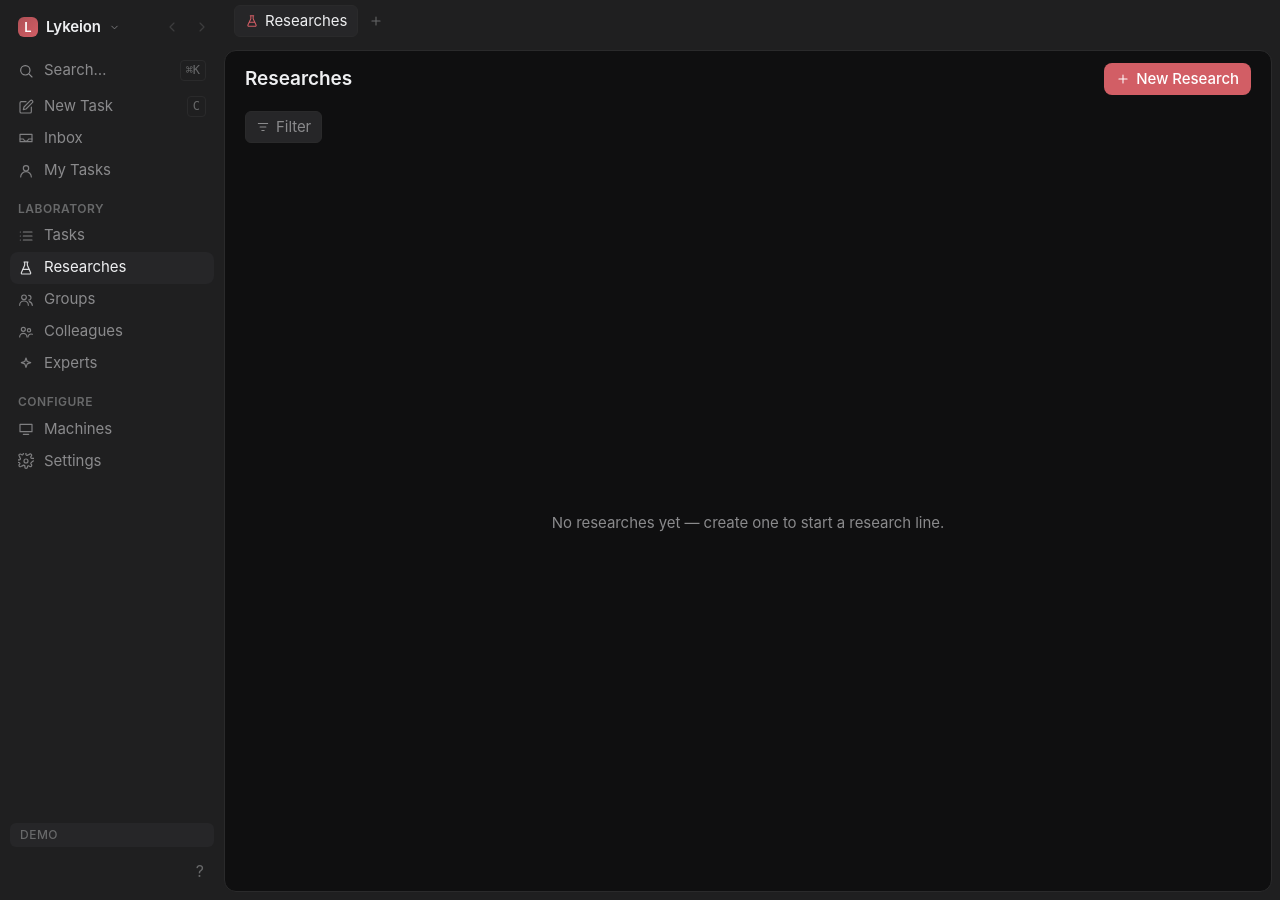
renders the usage dashboard with zeroed stats and both panels on a fresh core
Click the link "Settings".
click(60, 460)  # box [18,451,101,470]
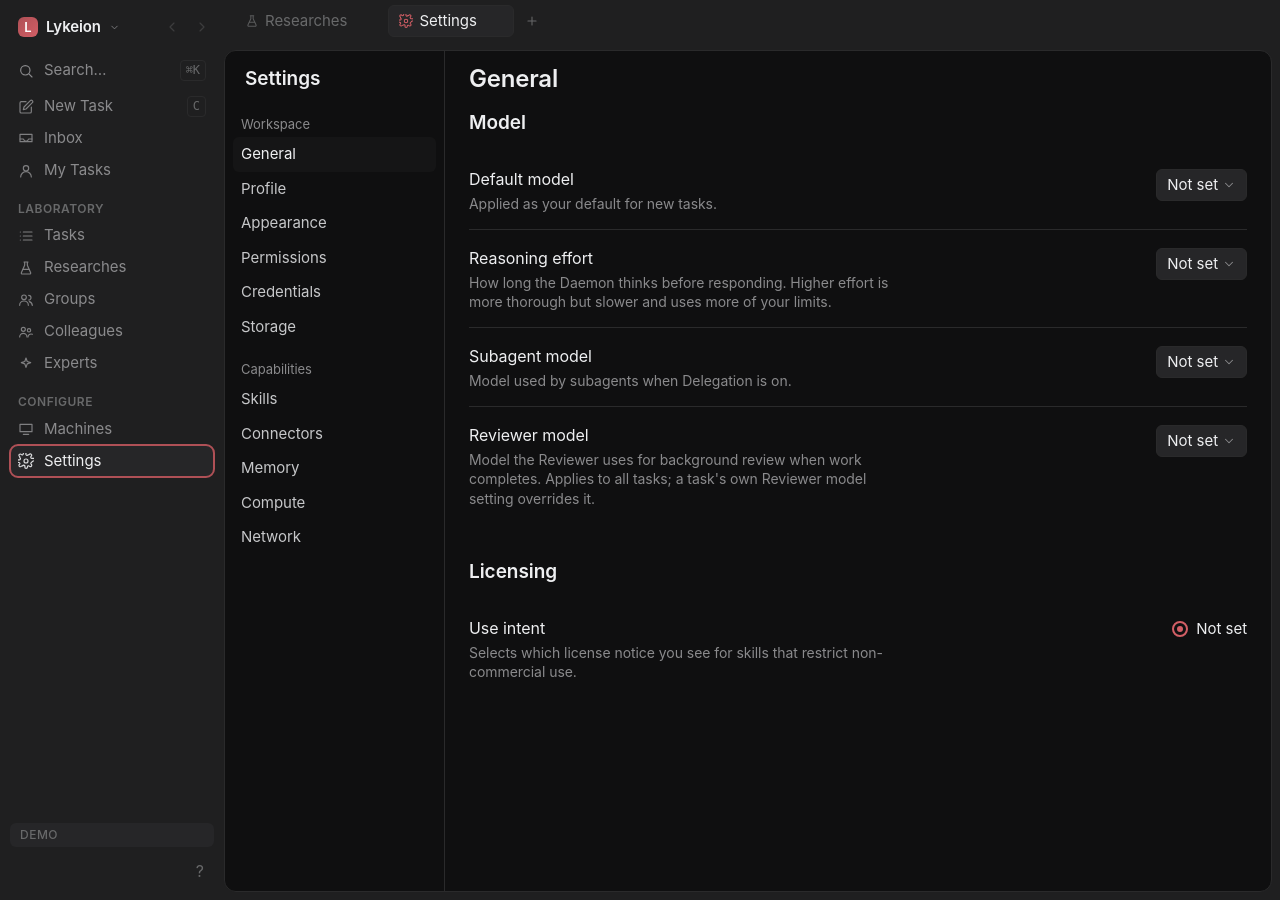
Click the button "Profile".
click(334, 189)  # box [233,172,436,206]
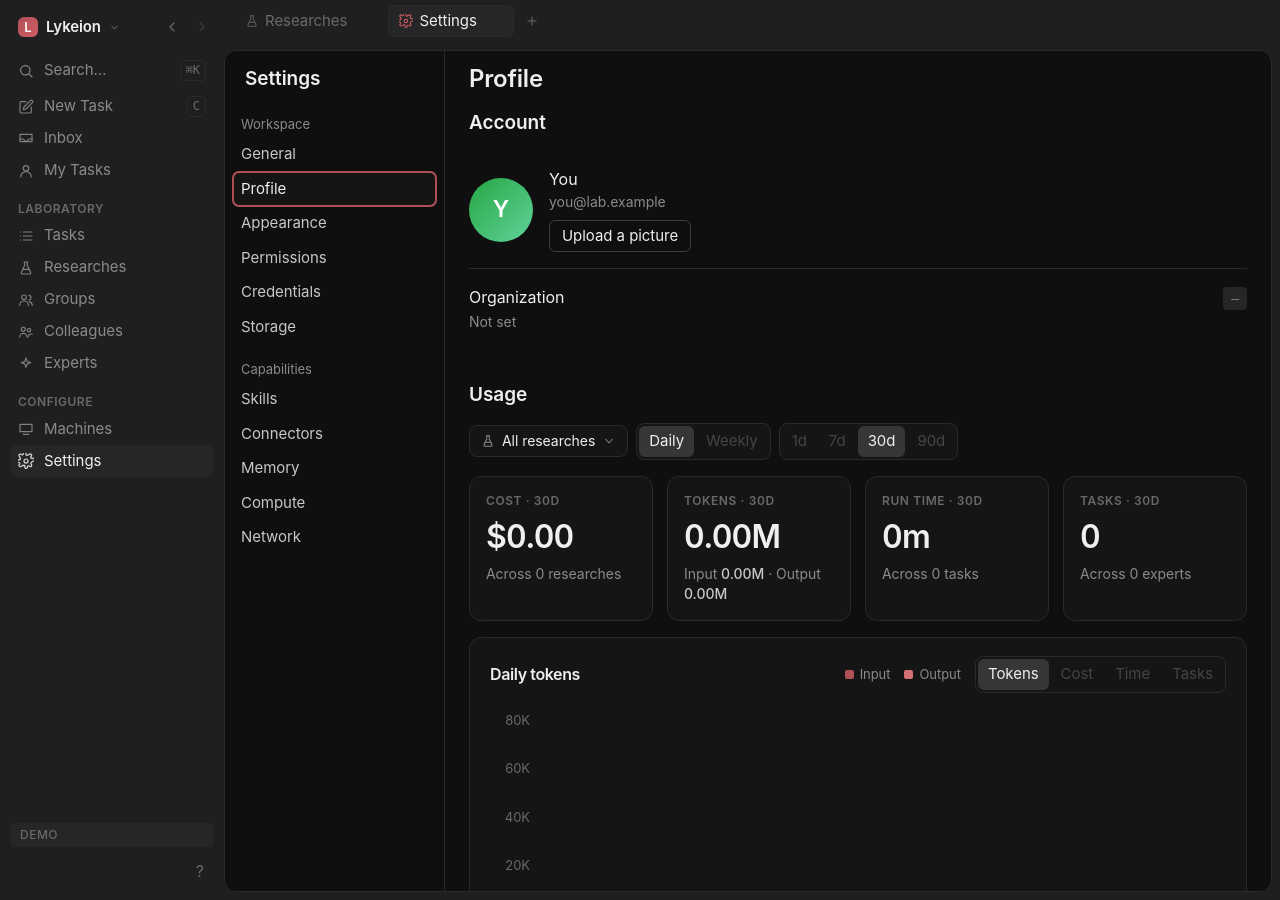
Expected: the text "Daily tokens" is shown, [490,662,580,687]
Expected: the text "Across 0 researches" is shown, [486,564,636,584]
Expected: the 1st text "0.00M" is shown, [684,517,780,556]
